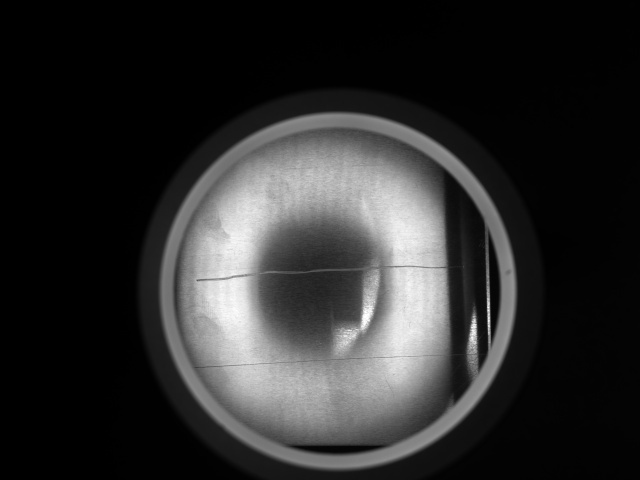ca_shang: (191, 263, 467, 282), (192, 351, 483, 367)
